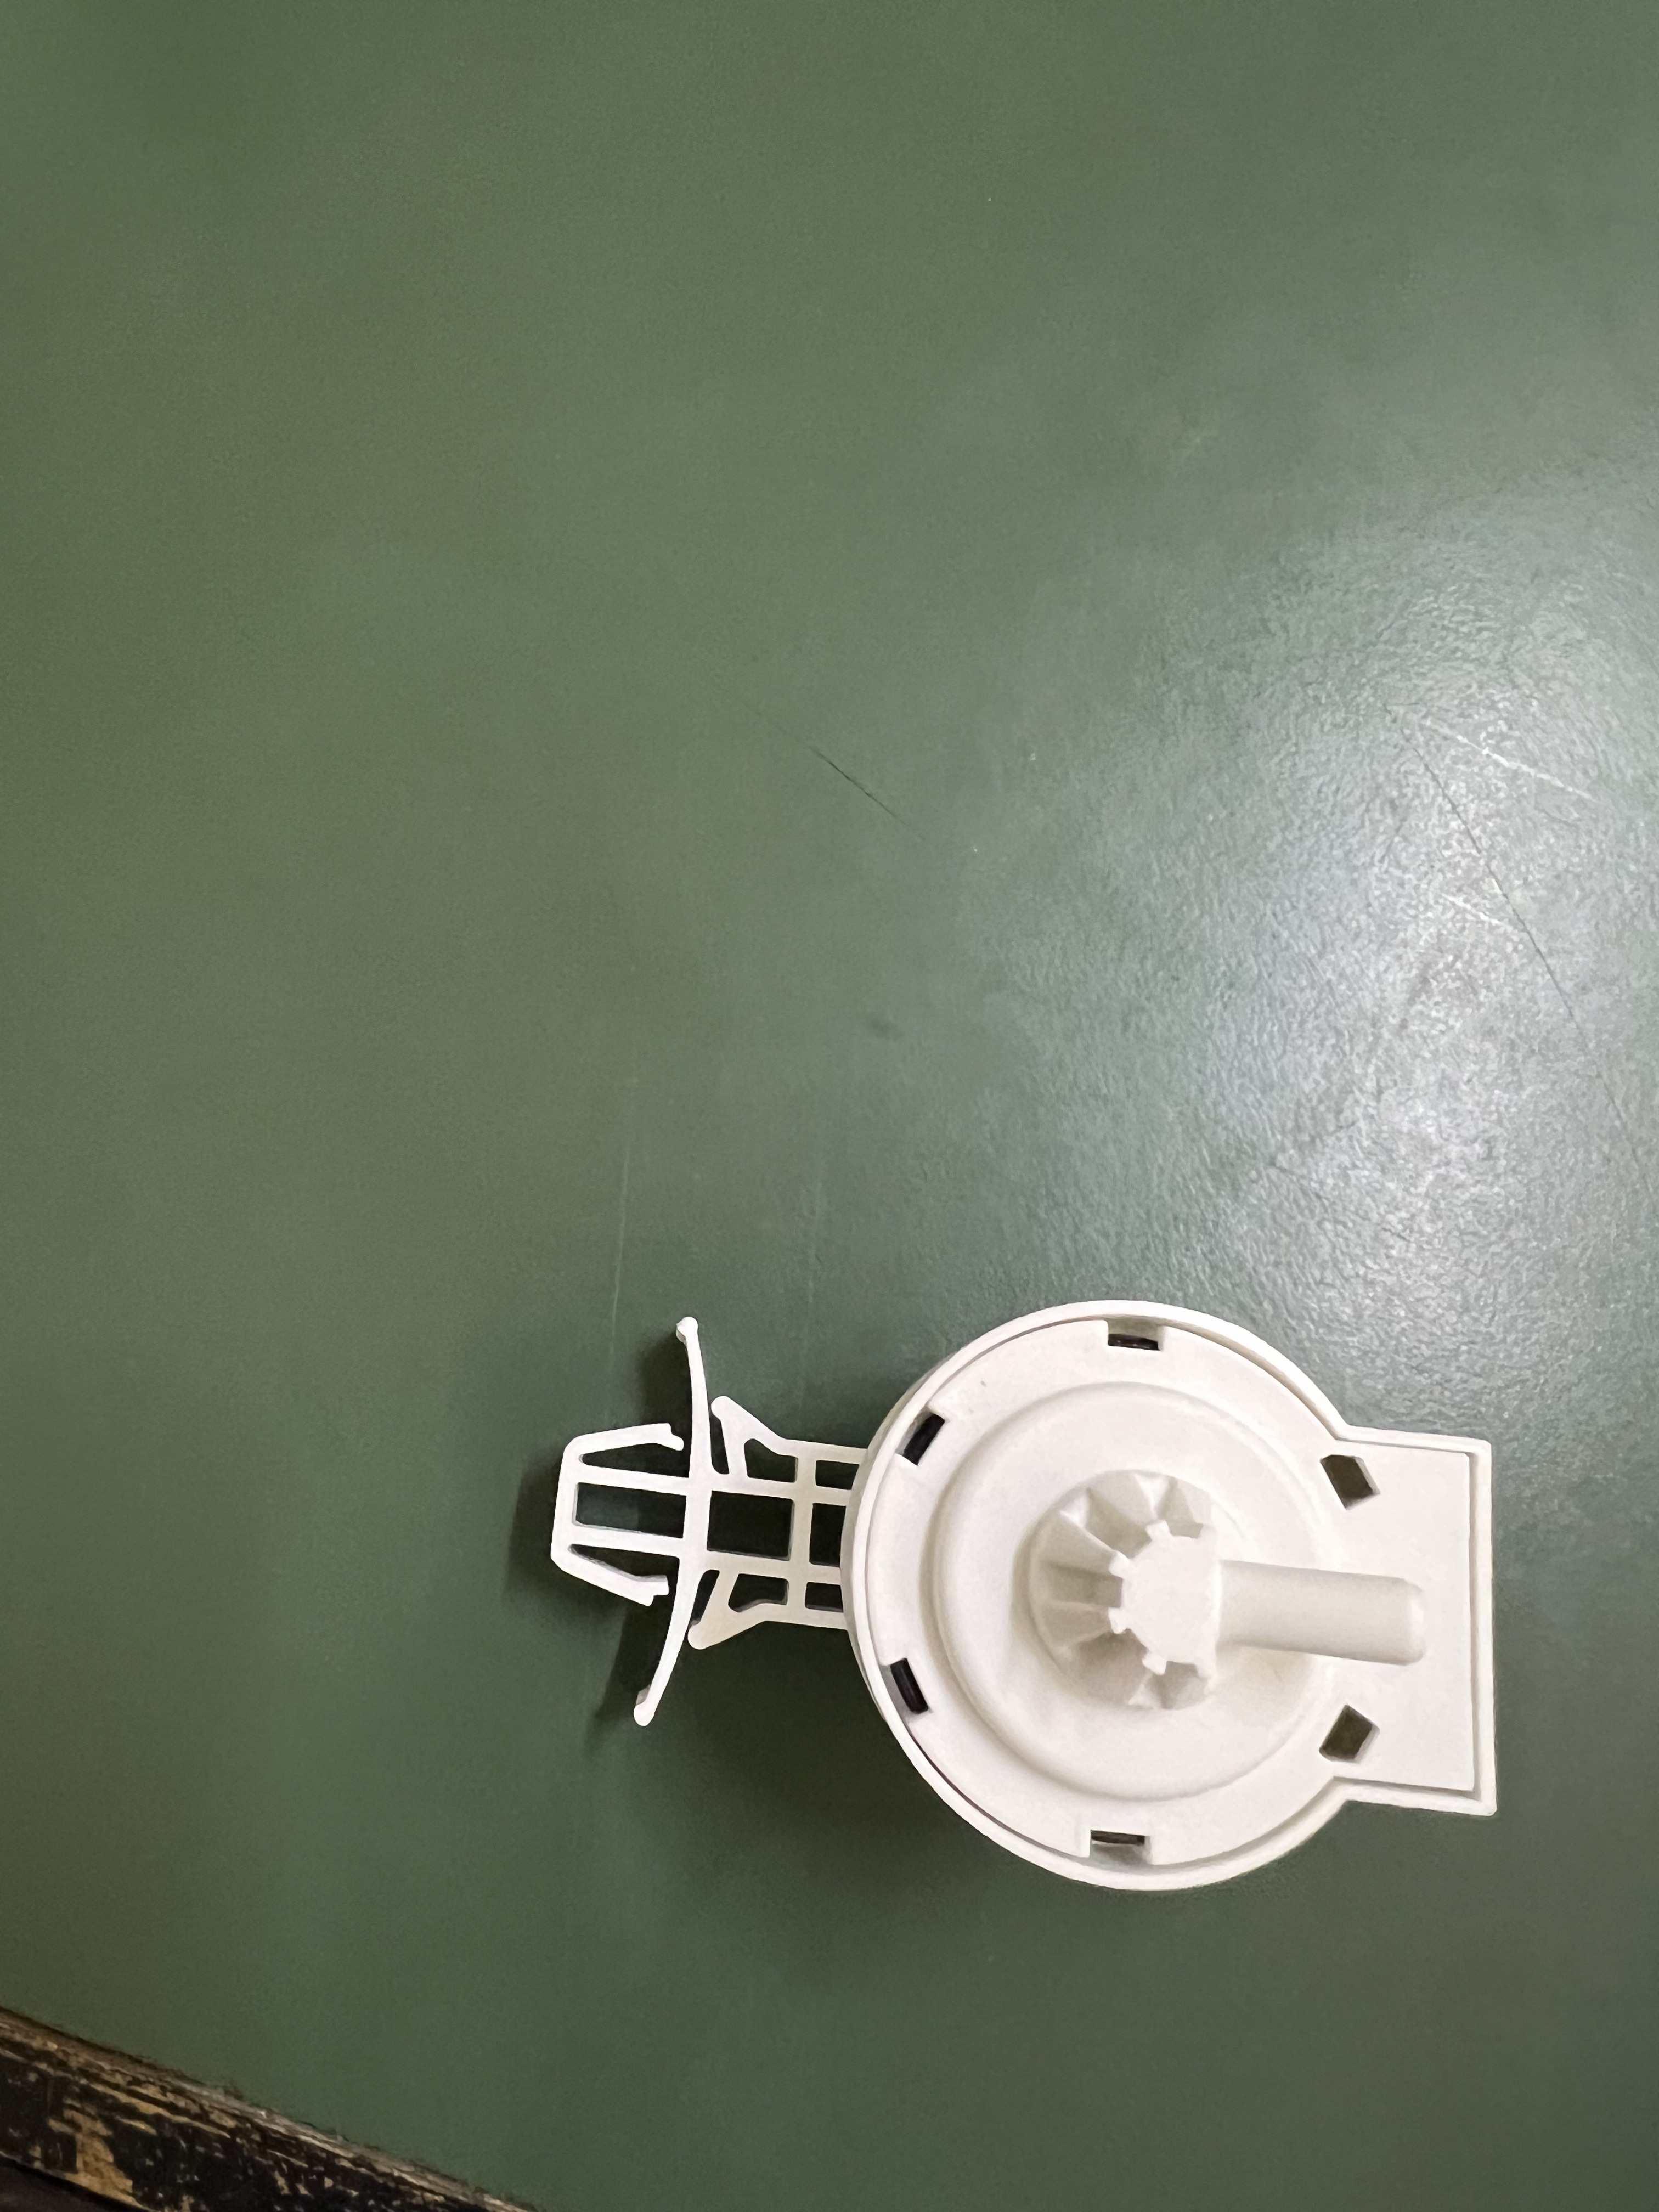pressure_switch_1: (505, 1289, 1577, 1900)
